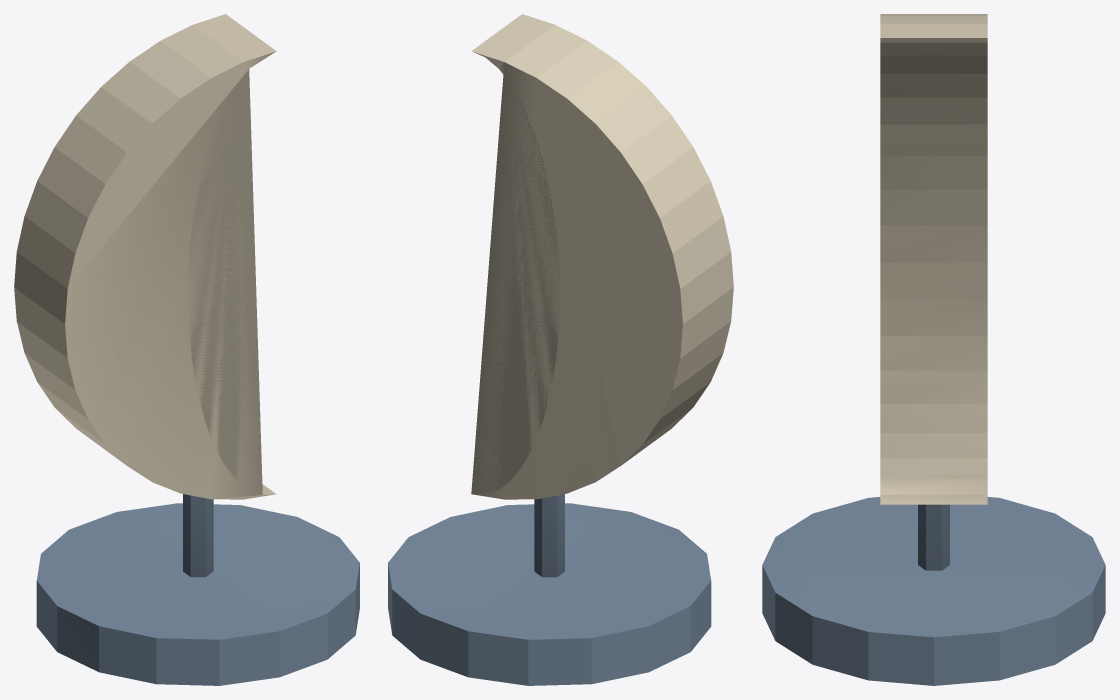
Rendered from furn_moon_lamp__navy.glb.
3 renders of one model, left to right at view 1: azimuth 30°, elevation 25°; view 2: azimuth 150°, elevation 25°; view 3: azimuth 270°, elevation 25°, orthographic. The views are drawn at different scales.
Size of the model in its own units: 0.34 by 0.62 by 0.32.
